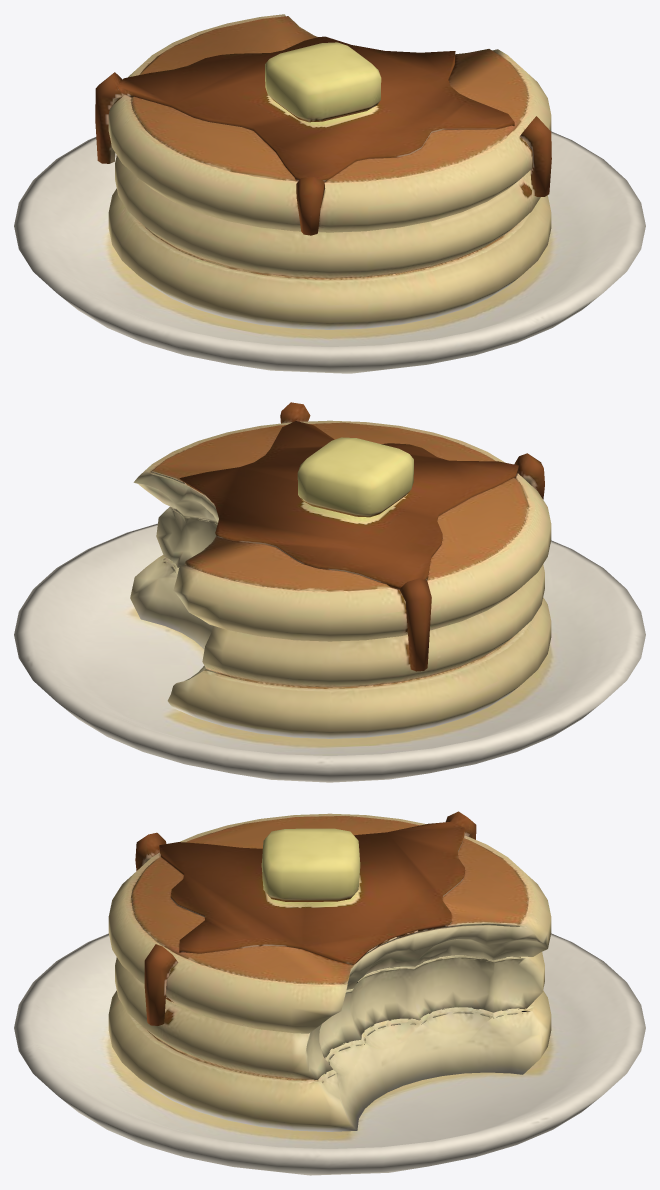
The model's file is hotcake_b1.glb.
3 renders of one model, top to bottom at view 1: azimuth 30°, elevation 25°; view 2: azimuth 150°, elevation 25°; view 3: azimuth 270°, elevation 25°, orthographic.
Parts seen in each view (by area): view 1: prop_hotcake_b1_felt; view 2: prop_hotcake_b1_felt; view 3: prop_hotcake_b1_felt.
Part boxes in pixels (x1,y1,x2,y2): prop_hotcake_b1_felt: [14, 14, 645, 373]; prop_hotcake_b1_felt: [14, 402, 645, 782]; prop_hotcake_b1_felt: [14, 811, 645, 1175].
Bounding box in the file's own units: 0.3 × 0.1193 × 0.3.
1 material, 1 textured.
